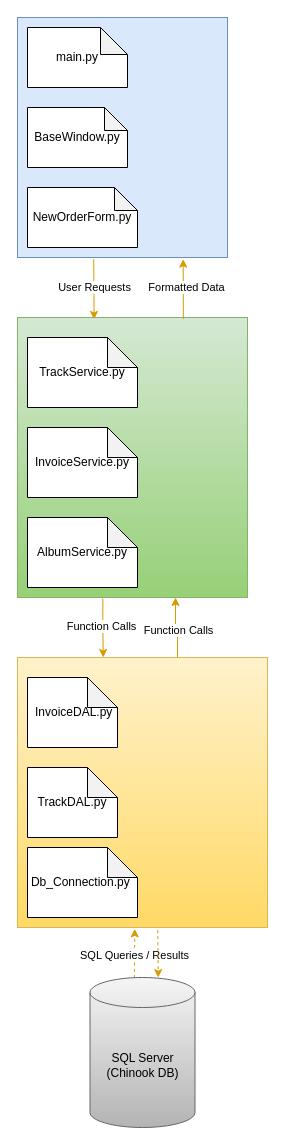
Image size: 285x1145. Some labels were removed from this diagram. The box of each missing label's shape, as (x1, y1, x2, y2) in pixels:
BLL / Service Layer: (16, 316, 248, 598)
DAL (Data Access Layer): (16, 656, 268, 928)
UI Layer (Tkinter): (16, 16, 228, 258)
